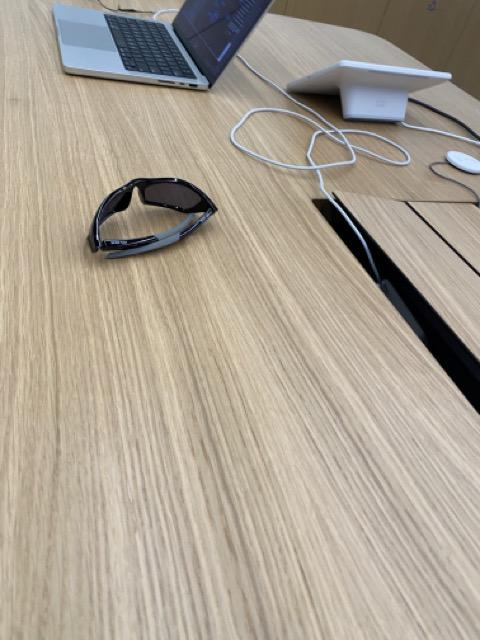Sunglasses: (87, 176, 220, 261)
